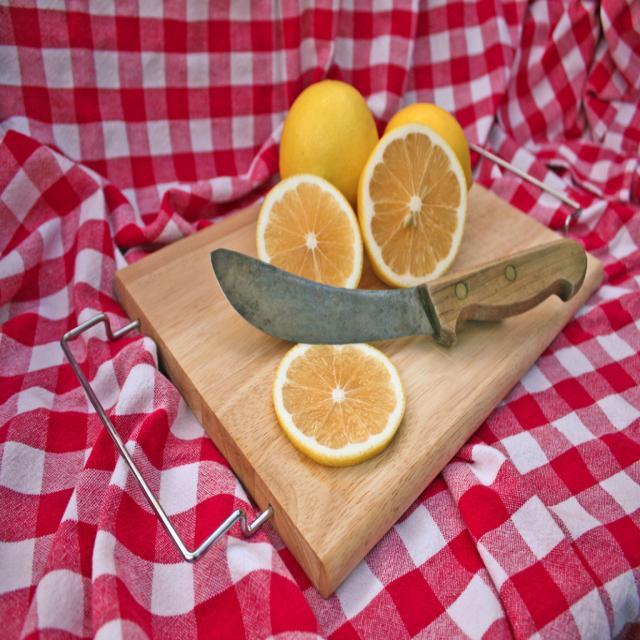Lemon: (358, 123, 471, 282), (274, 339, 406, 467), (282, 78, 377, 210), (258, 173, 363, 284), (382, 96, 472, 193)
